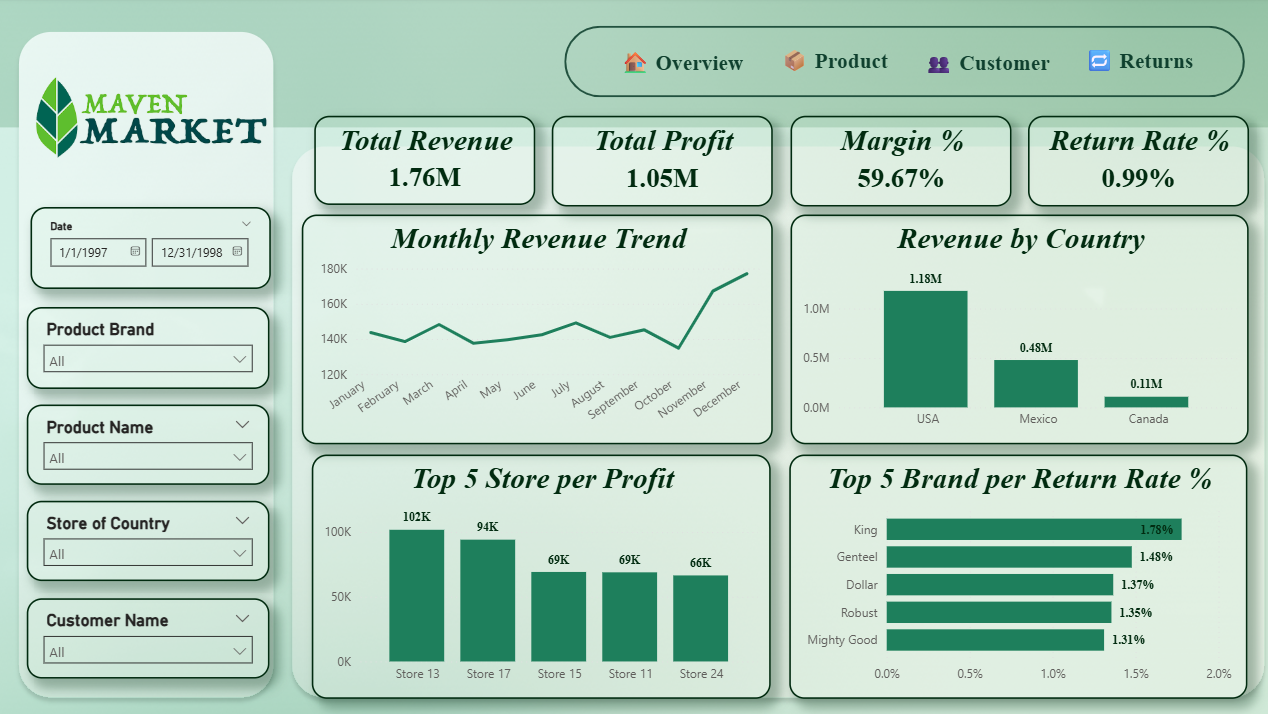

The page's visual inventory and layout, read from the dashboard file:
{"tool":"powerbi","page":{"name":"Overview","canvas":[1280,720],"ordinal":1},"visuals":[{"type":"shape","box":[563.2,29,677.3,71.2],"z":0},{"type":"actionButton","box":[613.7,44.1,135,41.7],"z":1000},{"type":"actionButton","box":[768.6,42.7,126.6,40.3],"z":2000},{"type":"actionButton","box":[915.1,44.1,137.7,41.7],"z":3000},{"type":"actionButton","box":[1072.8,42.7,126.6,40.3],"z":4000},{"type":"image","box":[30.6,43.1,240.7,151.7],"z":5000},{"type":"card","title":"Total Revenue","fields":{"Values":["Measure.Total Revenue"]},"box":[315,118.3,219.7,89.1],"z":6000},{"type":"card","title":"Total Profit","fields":{"Values":["Measure.Profit"]},"box":[551.6,118.3,219.7,90.7],"z":7000},{"type":"card","title":"Margin %","fields":{"Values":["Measure.Margin %"]},"box":[788.3,118.3,219.7,90.7],"z":8000},{"type":"card","title":"Return Rate %","fields":{"Values":["Measure.Return Rate %"]},"box":[1024.9,118.3,219.7,90.7],"z":9000},{"type":"lineChart","title":"Monthly Revenue Trend","fields":{"Category":["Dim_Calendar.date.Variation.Date Hierarchy.Month"],"Y":["Measure.Total Revenue"]},"box":[302.7,216.7,468.7,229],"z":10000},{"type":"clusteredColumnChart","title":"Revenue by Country","fields":{"Category":["Dim_Customers.customer_country"],"Y":["Measure.Total Revenue"]},"box":[788.3,216.7,456.4,229],"z":11000},{"type":"clusteredColumnChart","title":"Top 5 Store per Profit","fields":{"Category":["Dim_Stores.store_name"],"Y":["Measure.Profit"]},"box":[302.3,455.3,466.5,242.6],"z":12000},{"type":"clusteredBarChart","title":"Top 5  Brand per Return Rate %","fields":{"Category":["Dim_Products.product_brand"],"Y":["Measure.Return Rate %"]},"box":[788,455,456,243],"z":13000},{"type":"slicer","fields":{"Values":["Dim_Calendar.date"]},"box":[32,208.4,239.1,81.8],"z":14000},{"type":"slicer","fields":{"Values":["Dim_Products.product_brand"]},"box":[29.2,308.1,241.2,81.4],"z":15000},{"type":"slicer","fields":{"Values":["Dim_Products.product_name"]},"box":[29.2,405.7,241.2,79.9],"z":16000},{"type":"slicer","fields":{"Values":["Dim_Stores.store_country"]},"box":[29.2,501.7,241.2,79.9],"z":17000},{"type":"slicer","fields":{"Values":["Dim_Customers.Full Name"]},"box":[29.2,597.7,241.2,79.9],"z":18000}]}

Visuals, with their boxes in screenshot pixels (x1, y1, x2, y2), scaled from the page's 1280x720 canvas onto the 1268x714 screenshot:
shape: (left=558, top=29, right=1229, bottom=99)
actionButton: (left=608, top=44, right=742, bottom=85)
actionButton: (left=761, top=42, right=887, bottom=82)
actionButton: (left=907, top=44, right=1043, bottom=85)
actionButton: (left=1063, top=42, right=1188, bottom=82)
image: (left=30, top=43, right=269, bottom=193)
"Total Revenue" card: (left=312, top=117, right=530, bottom=206)
"Total Profit" card: (left=546, top=117, right=764, bottom=207)
"Margin %" card: (left=781, top=117, right=999, bottom=207)
"Return Rate %" card: (left=1015, top=117, right=1233, bottom=207)
"Monthly Revenue Trend" lineChart: (left=300, top=215, right=764, bottom=442)
"Revenue by Country" clusteredColumnChart: (left=781, top=215, right=1233, bottom=442)
"Top 5 Store per Profit" clusteredColumnChart: (left=299, top=452, right=762, bottom=692)
"Top 5  Brand per Return Rate %" clusteredBarChart: (left=781, top=451, right=1232, bottom=692)
slicer - Dim_Calendar.date: (left=32, top=207, right=269, bottom=288)
slicer - Dim_Products.product_brand: (left=29, top=306, right=268, bottom=386)
slicer - Dim_Products.product_name: (left=29, top=402, right=268, bottom=482)
slicer - Dim_Stores.store_country: (left=29, top=498, right=268, bottom=577)
slicer - Dim_Customers.Full Name: (left=29, top=593, right=268, bottom=672)
